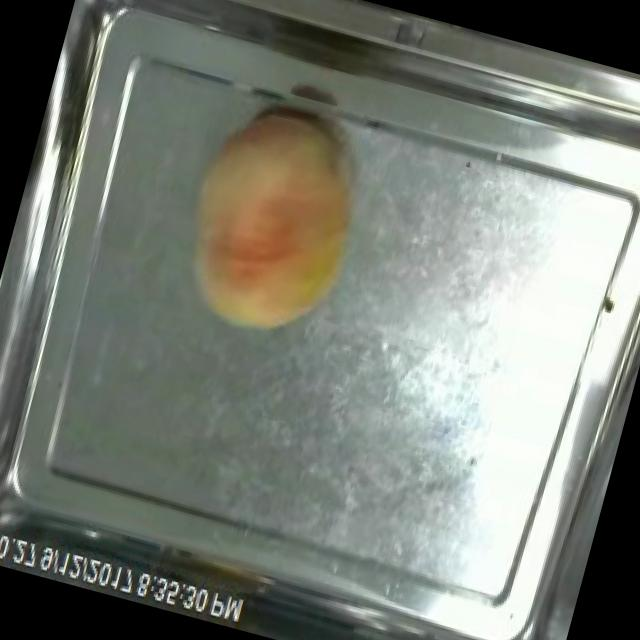Fruit: (158, 90, 390, 358)
